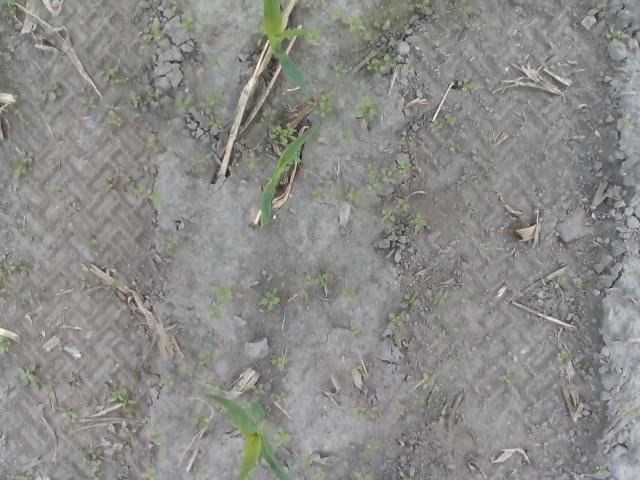Maize: (200, 391, 298, 480), (260, 124, 320, 229), (264, 0, 308, 92)
Weeds: (103, 382, 138, 420), (74, 448, 105, 480), (308, 90, 337, 118), (16, 361, 42, 391), (96, 66, 132, 86), (353, 94, 380, 120), (0, 258, 34, 278), (138, 24, 166, 48), (365, 53, 396, 74), (270, 123, 298, 146), (364, 162, 382, 196), (144, 416, 165, 444), (13, 150, 33, 179), (8, 103, 30, 129), (350, 406, 380, 424), (256, 288, 280, 310), (36, 81, 62, 101), (102, 280, 126, 301), (268, 427, 294, 446), (150, 372, 176, 391), (104, 104, 126, 126), (174, 92, 198, 112), (606, 25, 630, 45), (210, 282, 234, 302), (200, 87, 225, 106), (343, 12, 367, 31), (205, 107, 224, 129), (192, 410, 211, 432), (422, 372, 444, 391), (280, 152, 300, 172), (5, 467, 34, 480), (202, 303, 224, 320), (196, 349, 219, 365), (338, 126, 356, 146), (0, 0, 24, 15), (252, 23, 267, 47), (56, 406, 78, 422), (472, 154, 501, 166), (409, 213, 429, 230), (149, 91, 167, 109), (388, 312, 407, 329), (130, 186, 152, 200), (306, 272, 328, 286), (150, 190, 166, 209), (304, 28, 323, 44), (66, 373, 82, 392), (617, 405, 638, 419), (380, 167, 397, 184), (245, 151, 261, 169), (80, 98, 98, 114), (44, 374, 60, 392), (458, 78, 478, 92), (117, 426, 137, 440), (310, 187, 330, 201), (180, 361, 196, 378), (438, 407, 454, 423), (342, 286, 359, 301), (394, 158, 412, 172), (208, 55, 226, 69), (270, 356, 288, 370), (428, 331, 442, 349), (129, 92, 144, 108), (301, 452, 316, 468), (352, 470, 376, 480), (334, 61, 348, 78), (139, 466, 156, 480), (181, 16, 194, 34), (51, 185, 66, 200), (406, 292, 422, 306), (381, 208, 397, 222), (348, 186, 362, 202), (328, 7, 345, 20), (242, 401, 255, 418), (262, 106, 277, 120), (433, 290, 448, 304), (0, 335, 11, 354), (624, 113, 636, 130), (498, 374, 518, 384), (160, 128, 174, 142), (525, 184, 539, 198), (167, 234, 180, 248), (23, 290, 37, 303), (194, 152, 212, 162), (198, 372, 213, 384), (396, 196, 410, 208), (430, 118, 442, 132), (442, 113, 456, 125), (392, 402, 404, 416), (44, 160, 58, 172), (364, 445, 379, 456), (149, 134, 159, 150), (102, 176, 115, 188), (157, 447, 169, 460), (416, 0, 430, 11), (199, 11, 210, 25), (206, 384, 220, 395), (462, 7, 472, 22), (254, 116, 266, 128), (86, 237, 98, 249), (312, 468, 324, 480), (556, 350, 568, 362), (554, 276, 566, 288), (350, 364, 362, 376), (448, 141, 461, 152), (578, 362, 589, 375), (196, 469, 210, 479), (124, 324, 138, 334), (252, 384, 266, 394), (398, 470, 412, 480), (412, 394, 426, 404), (596, 464, 610, 474), (110, 162, 124, 172), (479, 241, 494, 250), (454, 22, 465, 34), (170, 0, 180, 13), (69, 195, 79, 207), (276, 392, 286, 404), (306, 210, 316, 222), (348, 260, 362, 268), (386, 224, 396, 235), (101, 264, 111, 275), (121, 464, 132, 474), (79, 279, 90, 289), (351, 324, 361, 335), (214, 401, 226, 410), (92, 8, 104, 17), (474, 21, 486, 30), (398, 136, 406, 149), (454, 328, 467, 336), (0, 278, 6, 295), (468, 204, 478, 214), (544, 150, 552, 160), (28, 0, 42, 5), (596, 2, 606, 9), (471, 474, 482, 480), (46, 60, 54, 68), (514, 4, 522, 12), (578, 280, 586, 288), (334, 189, 342, 197), (300, 292, 309, 299), (394, 336, 404, 342), (10, 227, 18, 234), (459, 355, 467, 362), (0, 23, 5, 33), (0, 51, 10, 56), (124, 176, 132, 182), (461, 232, 470, 237), (238, 145, 244, 152), (471, 252, 478, 258), (344, 306, 350, 313), (274, 474, 280, 480), (584, 116, 590, 122), (407, 65, 412, 72), (630, 272, 638, 276), (302, 0, 308, 3)
